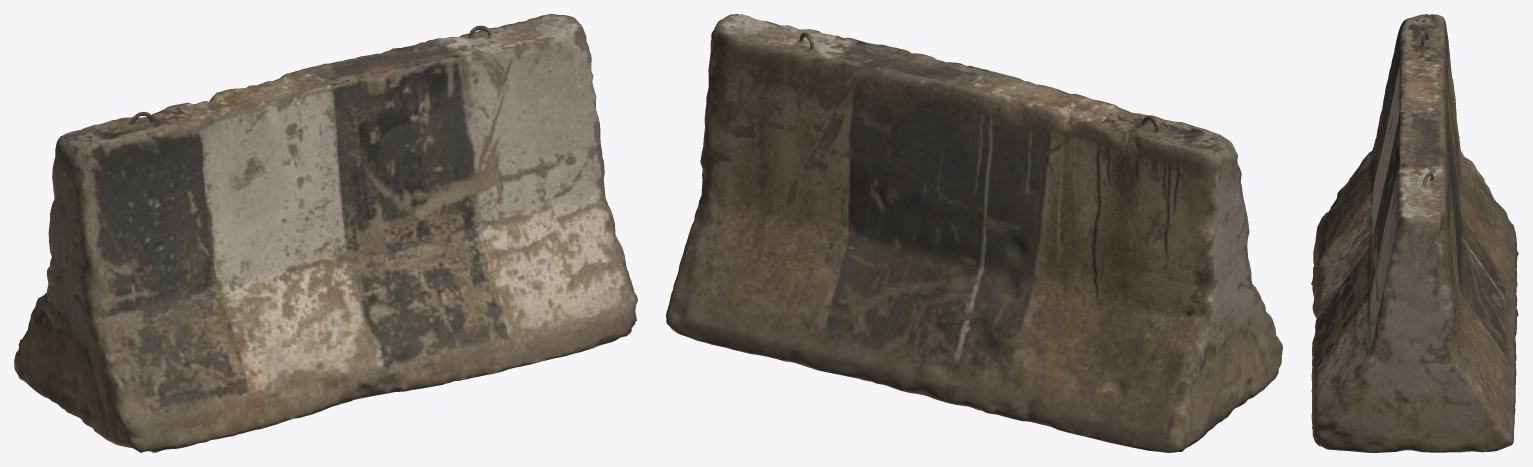
Rendered from concrete_road_barrier.glb.
3 views of the same model, side by side, from view 1: azimuth 30°, elevation 25°; view 2: azimuth 150°, elevation 25°; view 3: azimuth 270°, elevation 25° (orthographic). The views are drawn at different scales.
Parts seen in each view (by area): view 1: concrete_road_barrier; view 2: concrete_road_barrier; view 3: concrete_road_barrier.
Boxes of the visible parts, x1,y1,x2,y2 form: concrete_road_barrier: (14,14,637,452); concrete_road_barrier: (666,14,1282,452); concrete_road_barrier: (1311,14,1518,452).
Size of the model in its own units: 1.55 by 0.8307 by 0.6387.
1 material, 1 textured.
